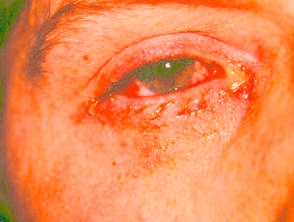SJS-TEN: (64, 24, 292, 176)
